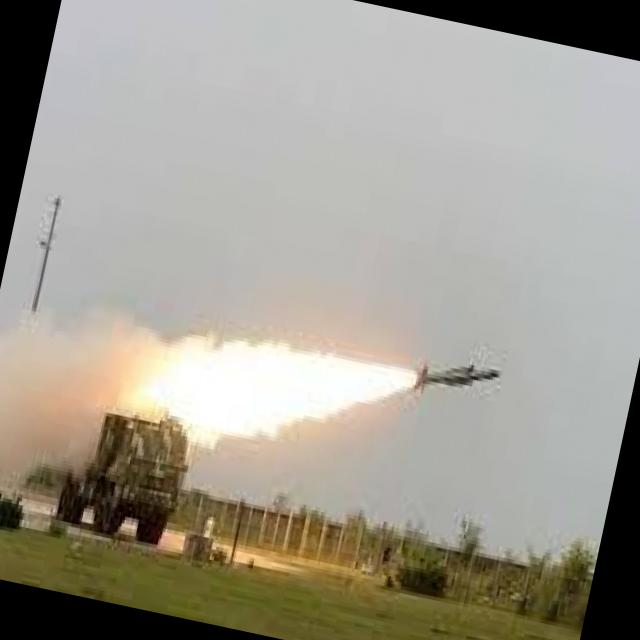rocket: (284, 311, 500, 468)
